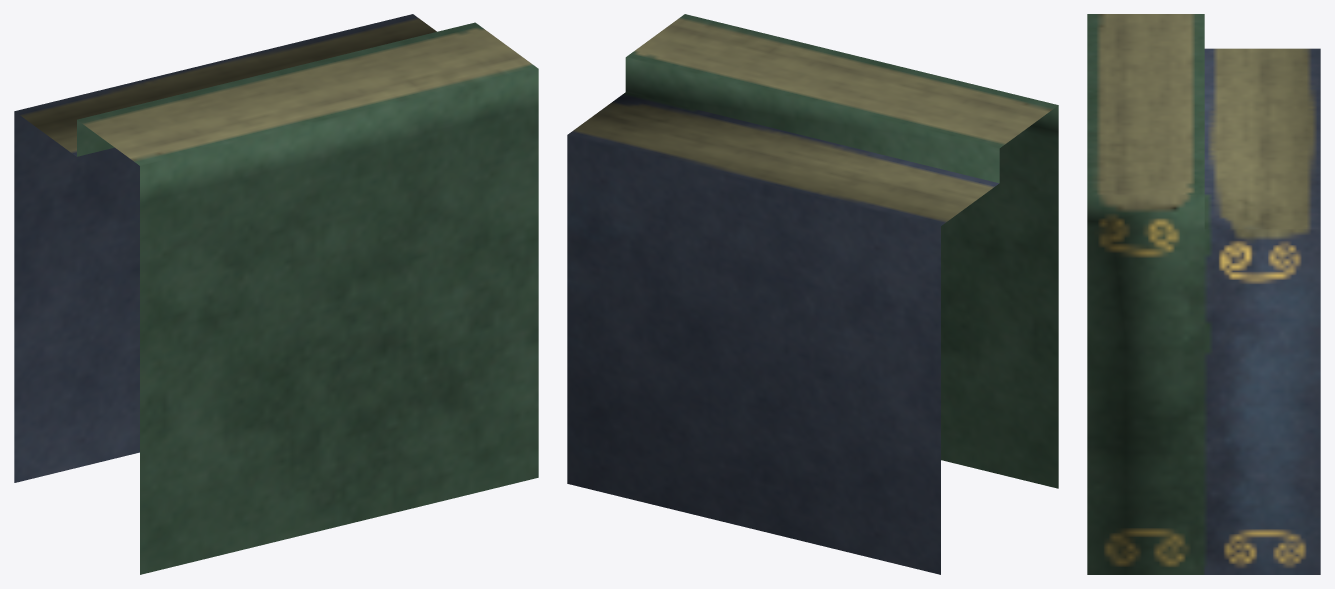
The model's file is BookClusterSmall_01.fbx.
3 views of the same model, side by side, from view 1: azimuth 30°, elevation 25°; view 2: azimuth 150°, elevation 25°; view 3: azimuth 270°, elevation 25° (orthographic). The views are drawn at different scales.
Parts seen in each view (by area): view 1: BookClusterSmall_01; view 2: BookClusterSmall_01; view 3: BookClusterSmall_01.
Part boxes in pixels (bbox=[...]): BookClusterSmall_01: bbox=[14, 14, 538, 574]; BookClusterSmall_01: bbox=[567, 14, 1058, 574]; BookClusterSmall_01: bbox=[1087, 14, 1320, 574].
Bounding box in the file's own units: 24.87 × 24.4 × 13.56.
